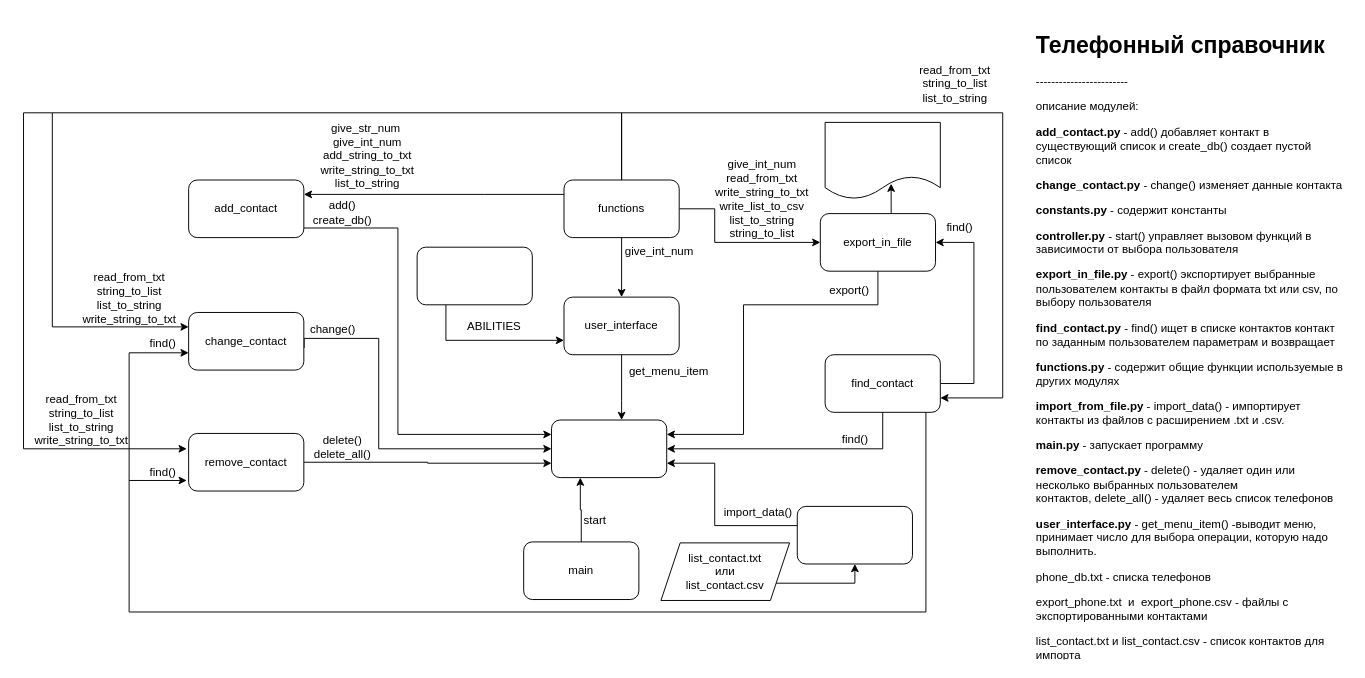
Image size: 1365x678. Some labels were removed from this diagram. Here are the shapes that lost their labels. From the top down, the box of each, then its label:
(824, 121, 940, 199): export_phone.txt или export_phone.csv
(416, 246, 532, 305): constants
(551, 419, 667, 478): controller
(796, 505, 912, 564): import_from_file
